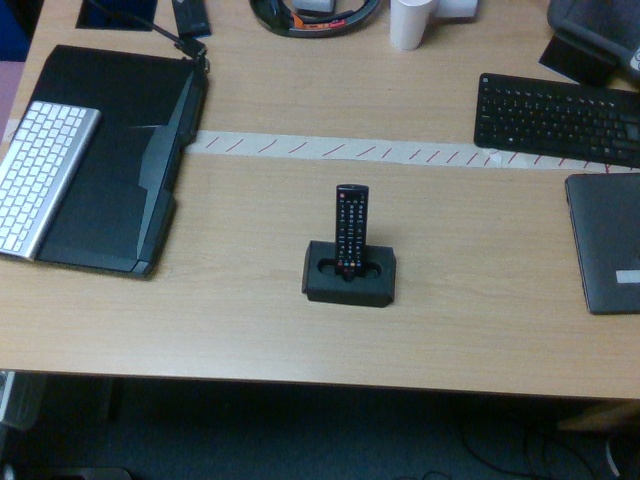remote: (335, 184, 370, 275)
